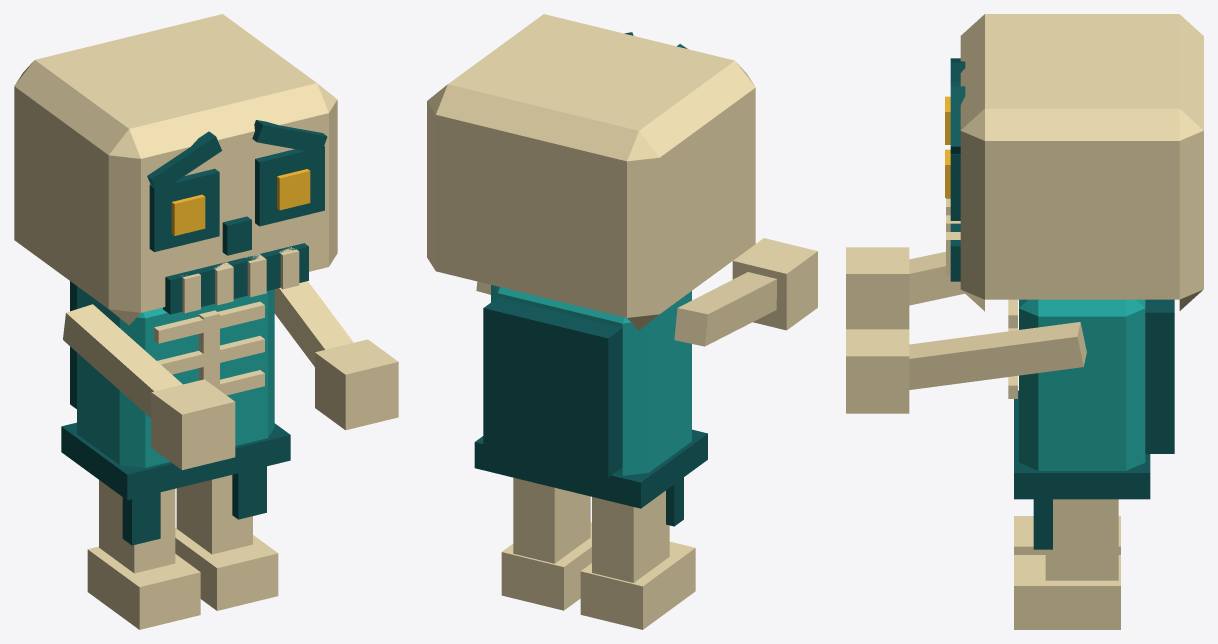
Rendered from grunt_r5.glb.
3 renders of one model, left to right at view 1: azimuth 30°, elevation 25°; view 2: azimuth 150°, elevation 25°; view 3: azimuth 270°, elevation 25°, orthographic. The views are drawn at different scales.
Parts seen in each view (by area): view 1: grunt_r5_mesh; view 2: grunt_r5_mesh; view 3: grunt_r5_mesh.
Boxes of the visible parts, x1=… form: grunt_r5_mesh: x1=14, y1=14, x2=398, y2=629; grunt_r5_mesh: x1=427, y1=14, x2=817, y2=629; grunt_r5_mesh: x1=846, y1=14, x2=1203, y2=629.
Bounding box in the file's own units: 0.6942 × 1.5 × 0.9112.
Materials: 1 (1 with a texture image).
